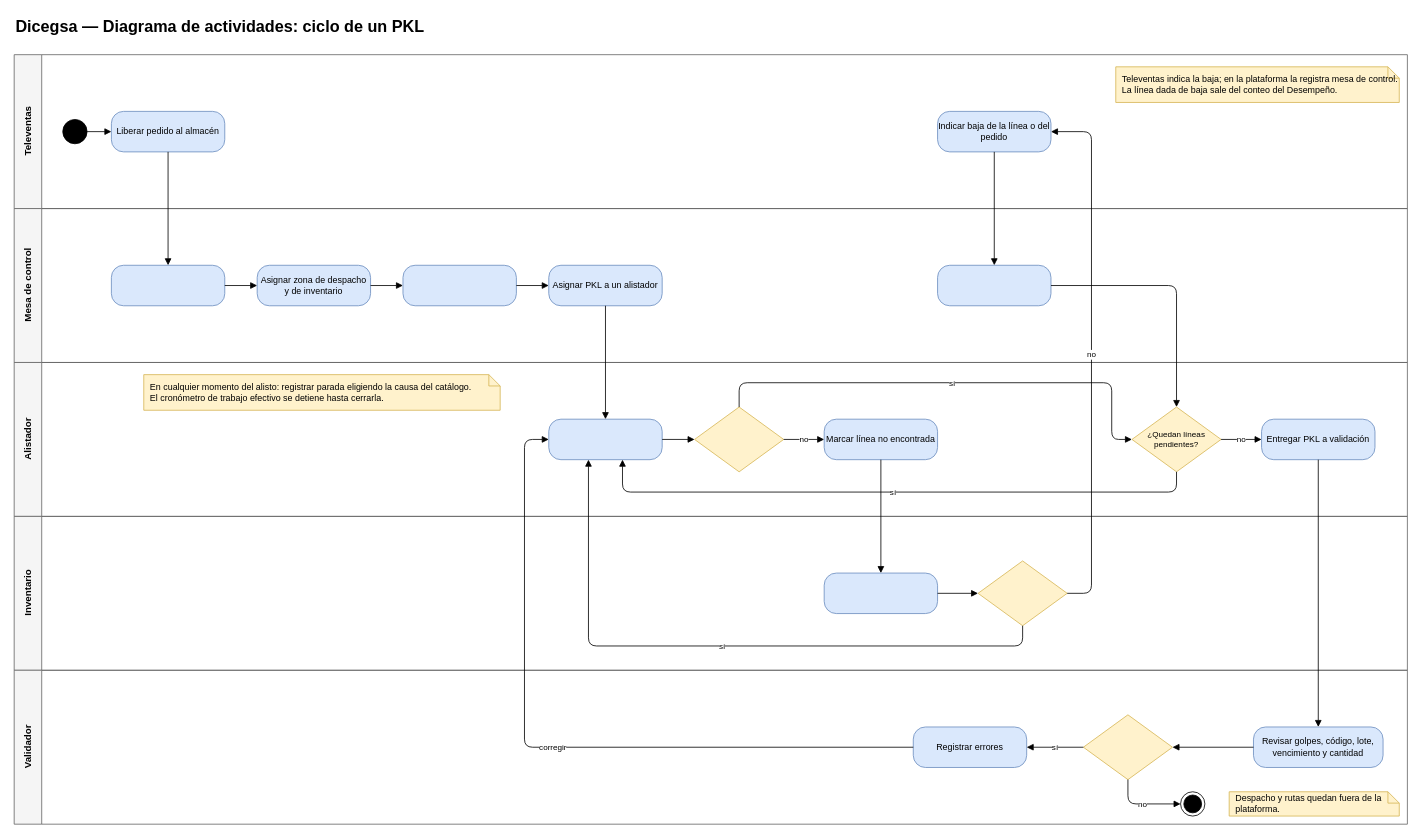
This 1422x838 diagram has some shape labels left out. The shapes that lost their labels are listed below. From the top down, each one's centre as x and y in pixels, then its label:
the point at 168,285: Cargar pedido con líneas y fecha de entrega
the point at 459,285: Armar PKL agrupando pedidos
the point at 994,285: Registrar la baja en la plataforma
the point at 605,439: Recorrer ubicación y marcar línea
the point at 739,439: ¿Producto encontrado?
the point at 880,593: Buscar el producto
the point at 1022,593: ¿Aparece?
the point at 1127,747: ¿Hay errores?
